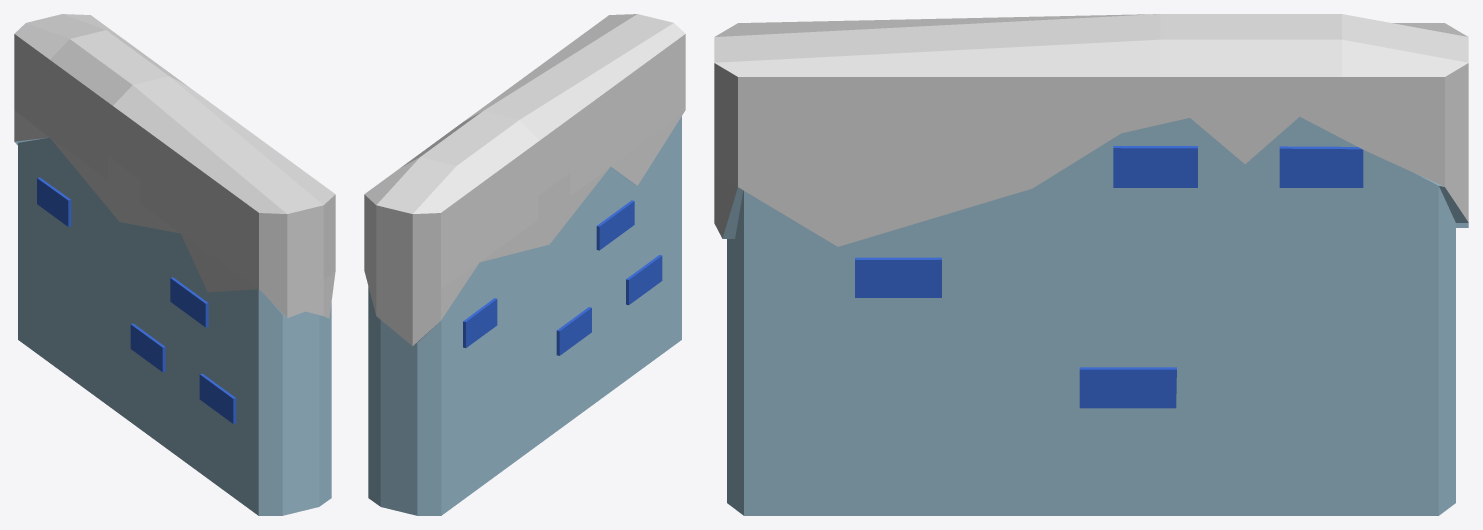
File: CastleWall_normal_snow.fbx
3 renders of one model, left to right at view 1: azimuth 30°, elevation 25°; view 2: azimuth 150°, elevation 25°; view 3: azimuth 270°, elevation 25°, orthographic. The views are drawn at different scales.
Parts seen in each view (by area): view 1: Куб.001; view 2: Куб.001; view 3: Куб.001.
Part boxes in pixels (x1,y1,x2,y2): Куб.001: [14, 14, 335, 515]; Куб.001: [364, 14, 685, 515]; Куб.001: [714, 14, 1468, 515].
Bounding box in the file's own units: 110 × 421 × 621.
